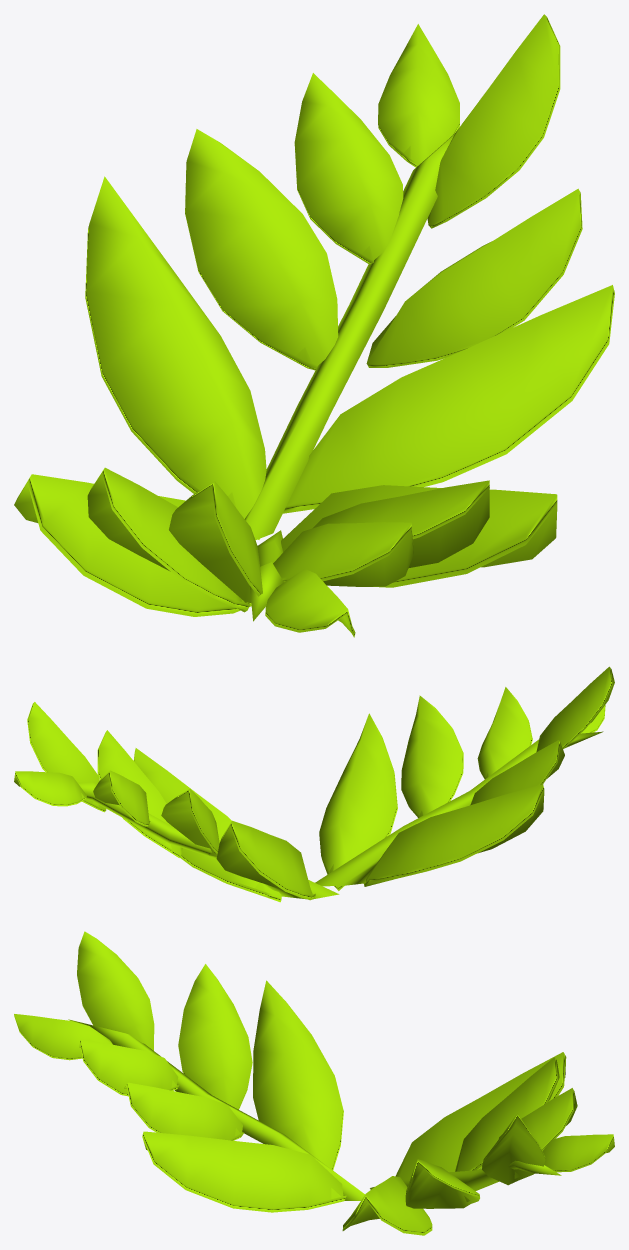
The model's file is leaf_C.fbx.
The picture shows the model from 3 angles, top to bottom: view 1: azimuth 30°, elevation 25°; view 2: azimuth 150°, elevation 25°; view 3: azimuth 270°, elevation 25°; orthographic projection. The views are drawn at different scales.
Visible parts, largest first — view 1: leaf_C_full; view 2: leaf_C_full; view 3: leaf_C_full.
Boxes of the visible parts, x1,y1,x2,y2 form: leaf_C_full: (14,14,614,637); leaf_C_full: (14,666,614,902); leaf_C_full: (14,931,614,1235).
Bounding box in the file's own units: 0.2503 × 0.1151 × 0.2975.
